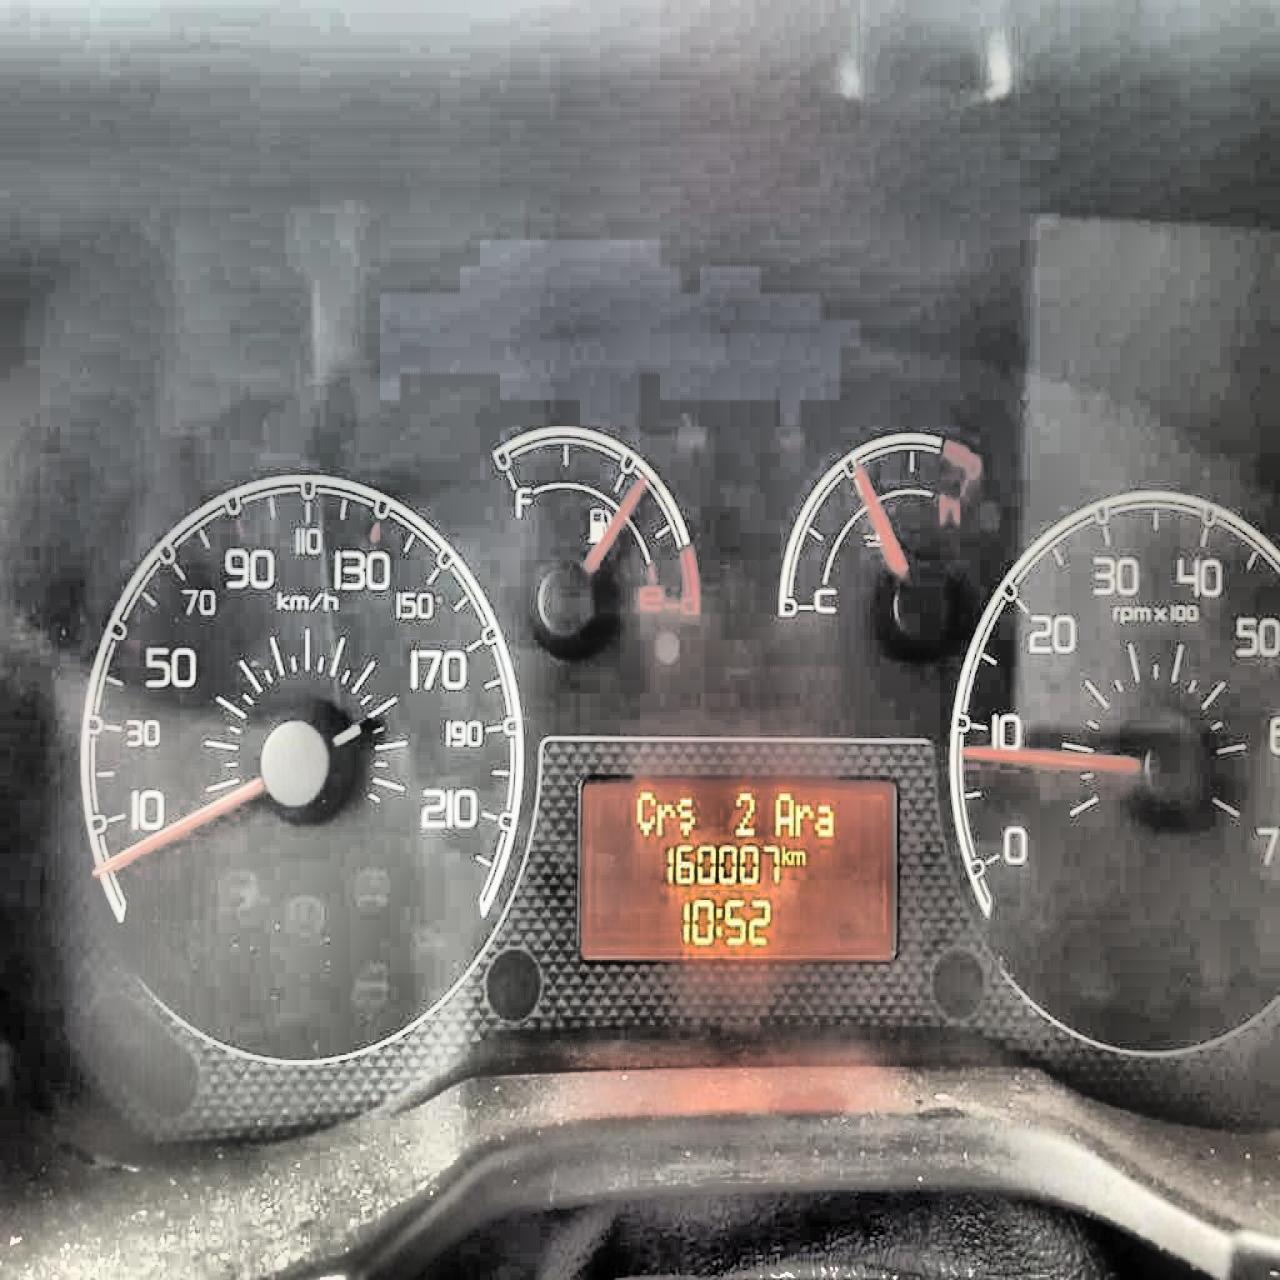0: (689, 897, 713, 945), (716, 842, 736, 885), (738, 844, 760, 884), (695, 844, 716, 884)
1: (681, 897, 690, 944), (666, 844, 674, 884)
2: (749, 897, 771, 946), (734, 788, 755, 837)
5: (724, 897, 745, 944)
6: (675, 843, 694, 885)
7: (761, 844, 779, 884)
X: (774, 788, 794, 837), (635, 788, 654, 837), (675, 795, 696, 835), (813, 802, 835, 837), (794, 801, 812, 837), (656, 802, 674, 836), (714, 904, 722, 939), (790, 849, 805, 865), (779, 843, 790, 865)
odometer: (572, 768, 904, 967)
